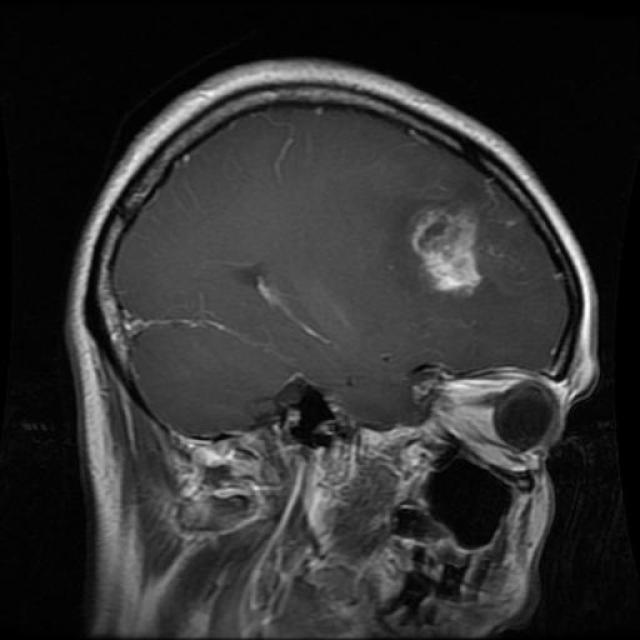glioma: (401, 201, 500, 301)
